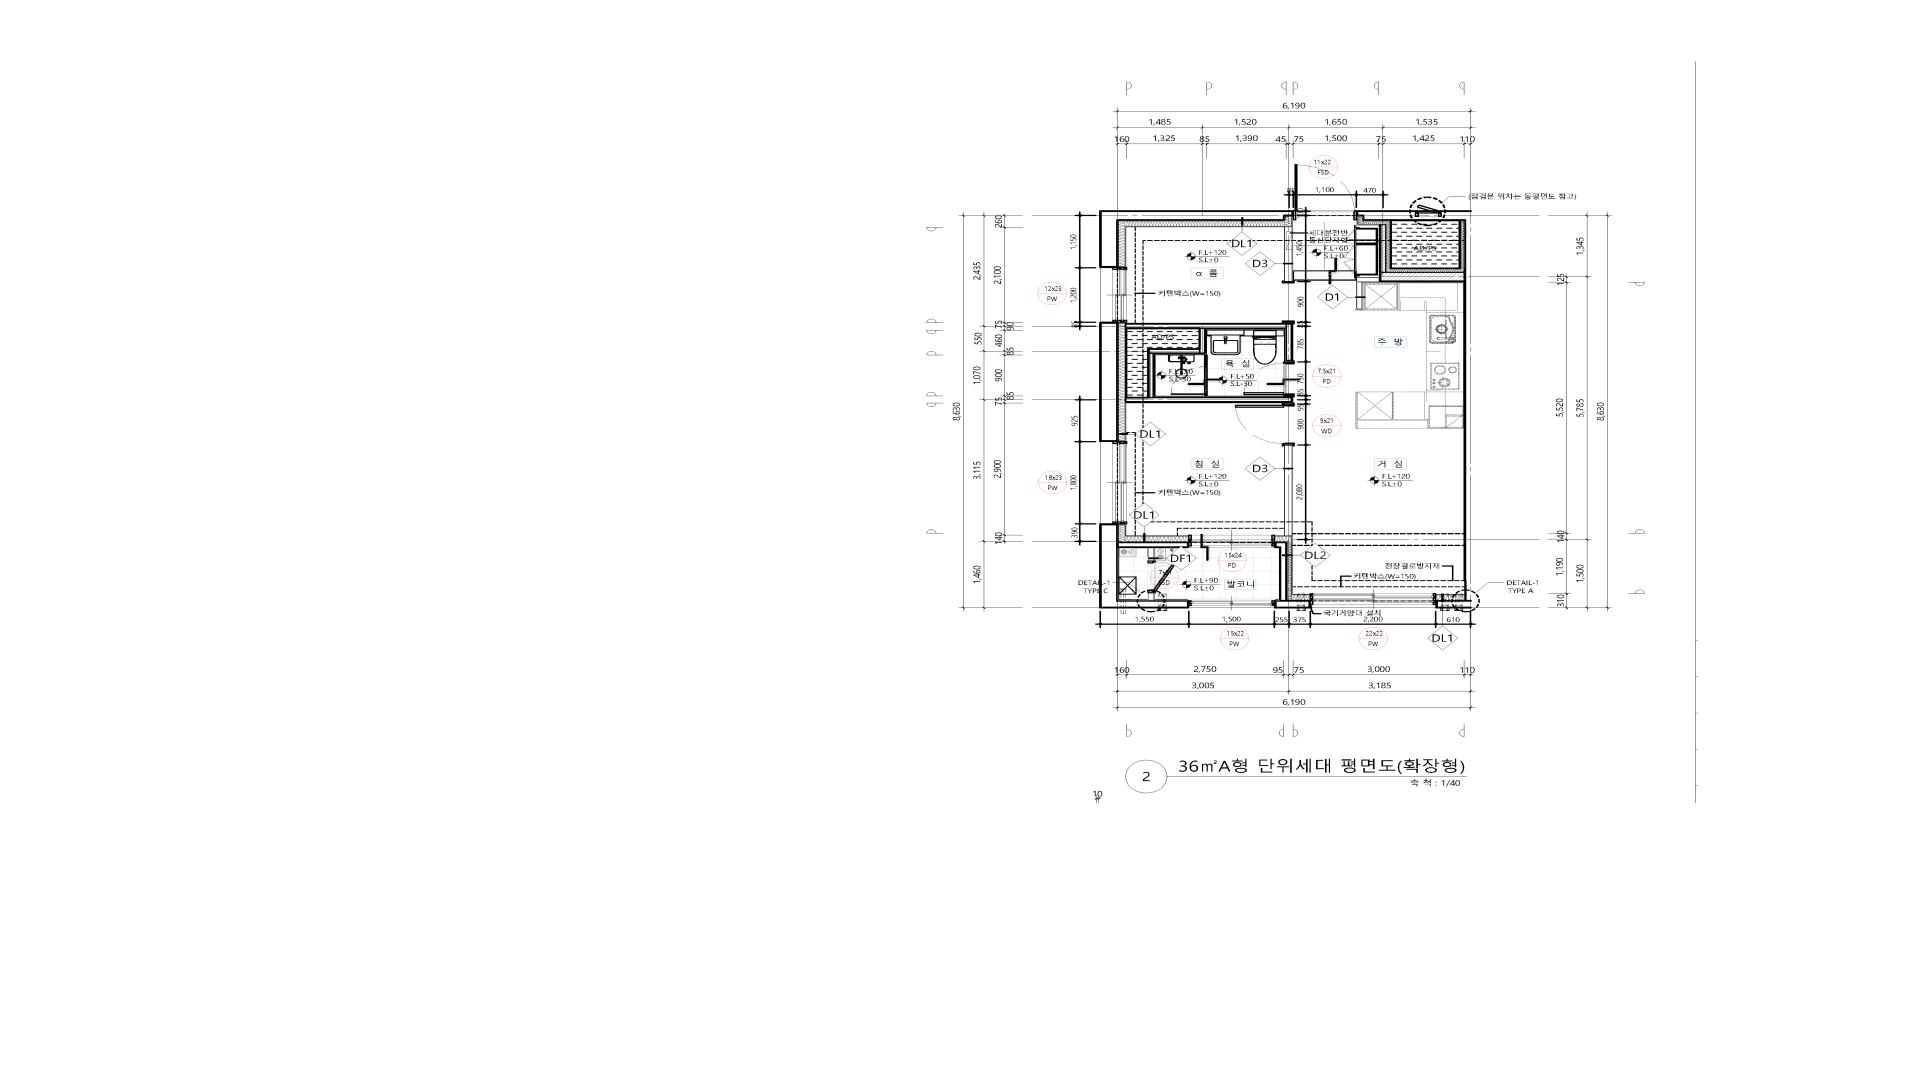door: (1292, 164, 1357, 220), (1234, 404, 1295, 446), (1244, 361, 1295, 397), (1171, 367, 1208, 397), (1147, 560, 1175, 593)
wall: (1357, 210, 1472, 609), (1125, 323, 1294, 404), (1098, 210, 1292, 268), (1098, 524, 1188, 609), (1378, 224, 1464, 282), (1098, 322, 1120, 442), (1120, 541, 1189, 560), (1274, 542, 1287, 600), (1357, 277, 1379, 310), (1284, 446, 1292, 535), (1284, 227, 1292, 281), (1274, 600, 1311, 609), (1204, 355, 1208, 367), (1149, 593, 1155, 599)
window: (1098, 442, 1127, 524), (1311, 593, 1435, 609), (1100, 268, 1127, 322), (1189, 534, 1274, 549), (1188, 599, 1274, 608)
